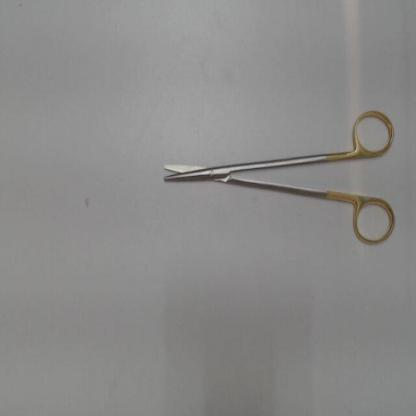7 Metzenbaum Scissors: (158, 103, 400, 252)
